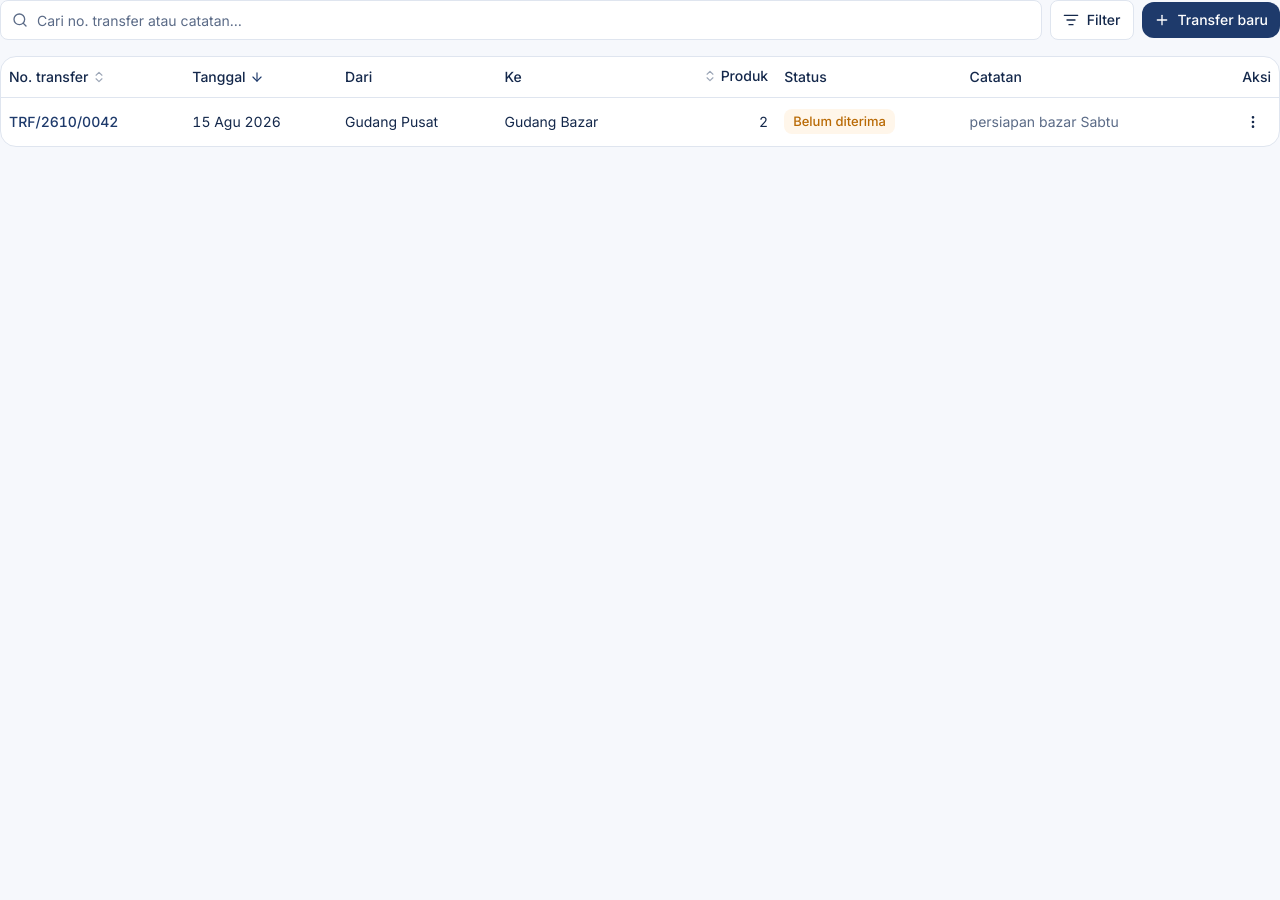
Scenario: keeps 'Semua gudang' on offer after a warehouse has been picked
The width and height of the screenshot is (1280, 900).
Click the button "Filter".
click(1092, 20)  # box [1050,0,1134,40]
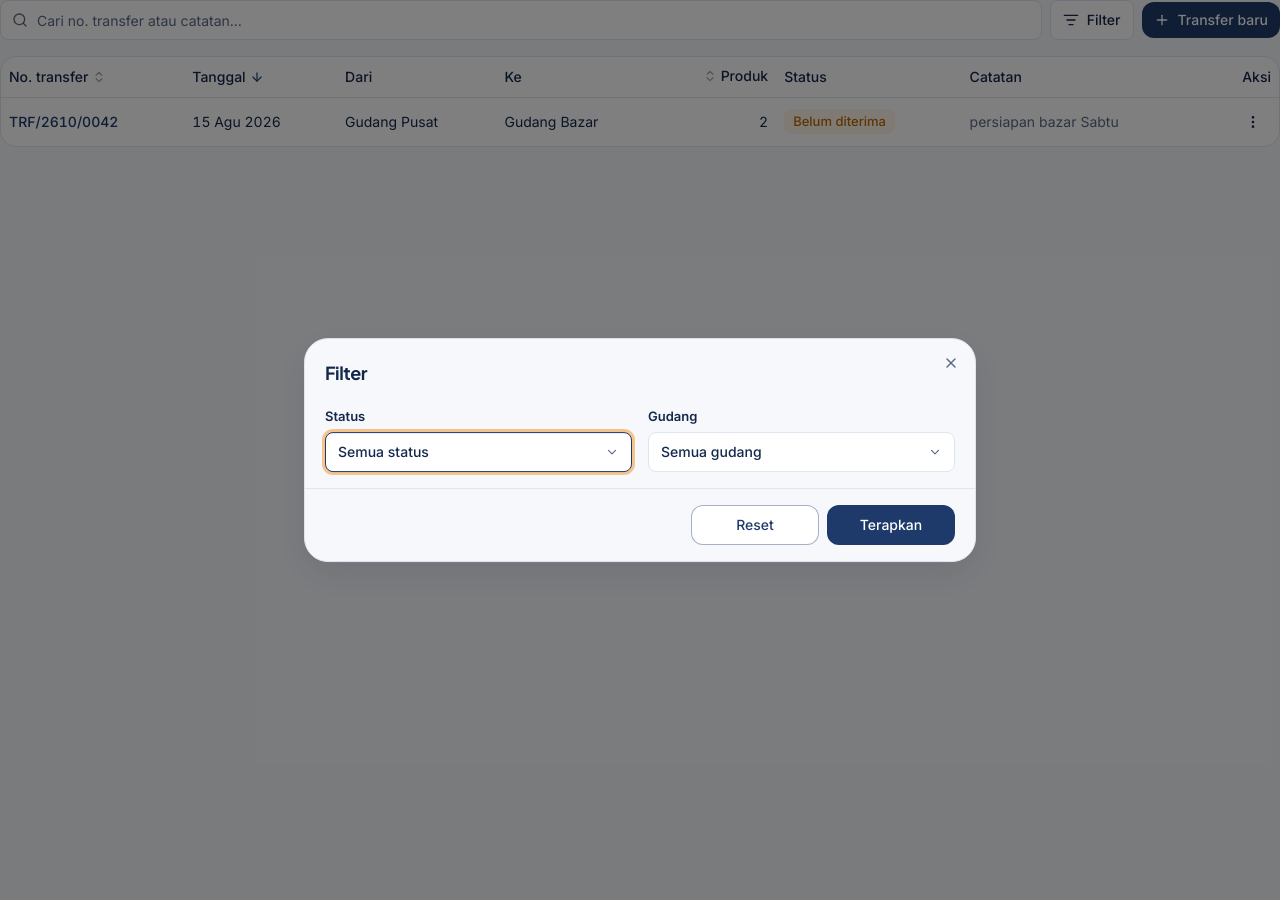
Click the button with aria-label "Filter gudang — asal maupun tujuan".
click(711, 451)  # box [648,432,955,472]
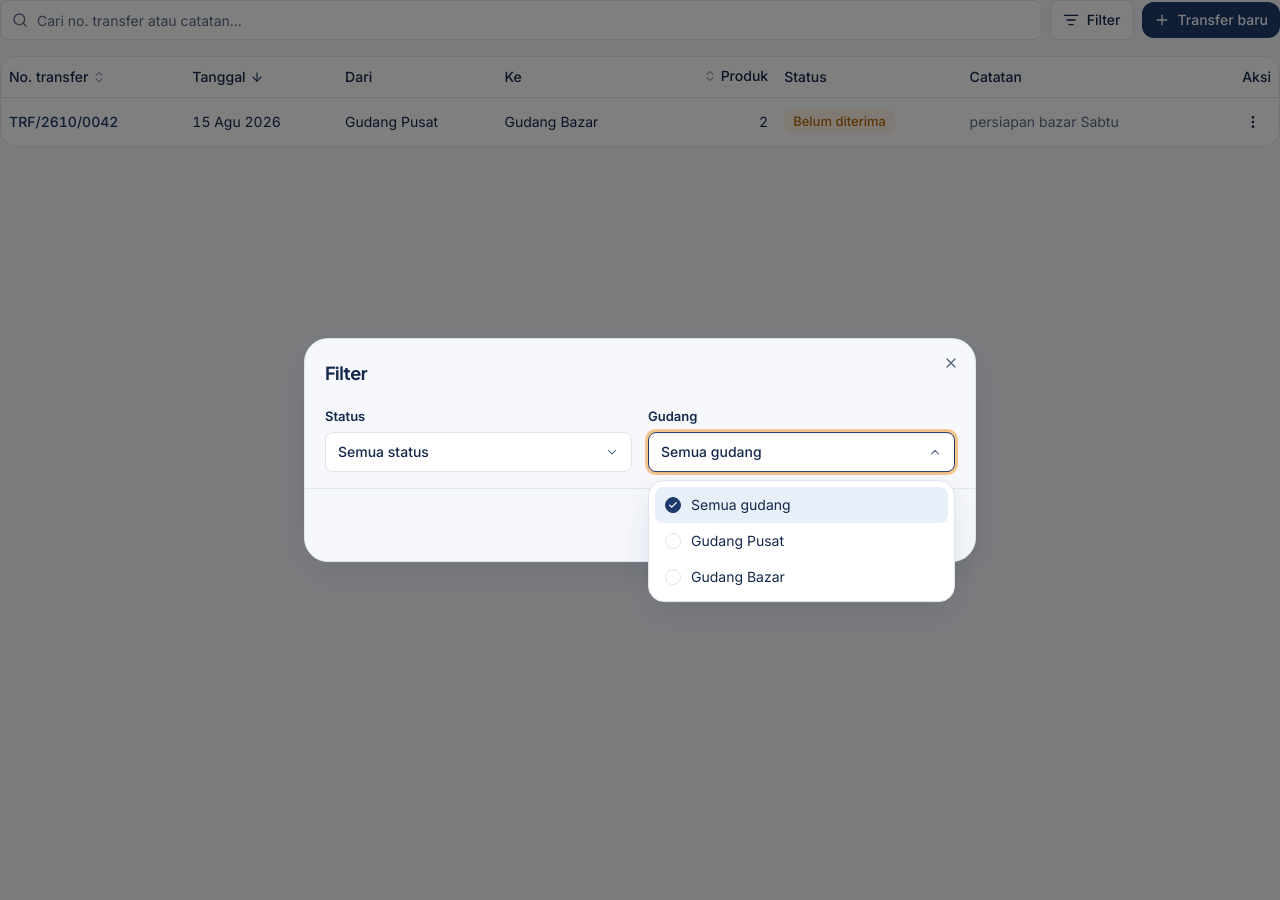
Click the option "Gudang Bazar".
click(725, 577)  # box [665,568,785,585]
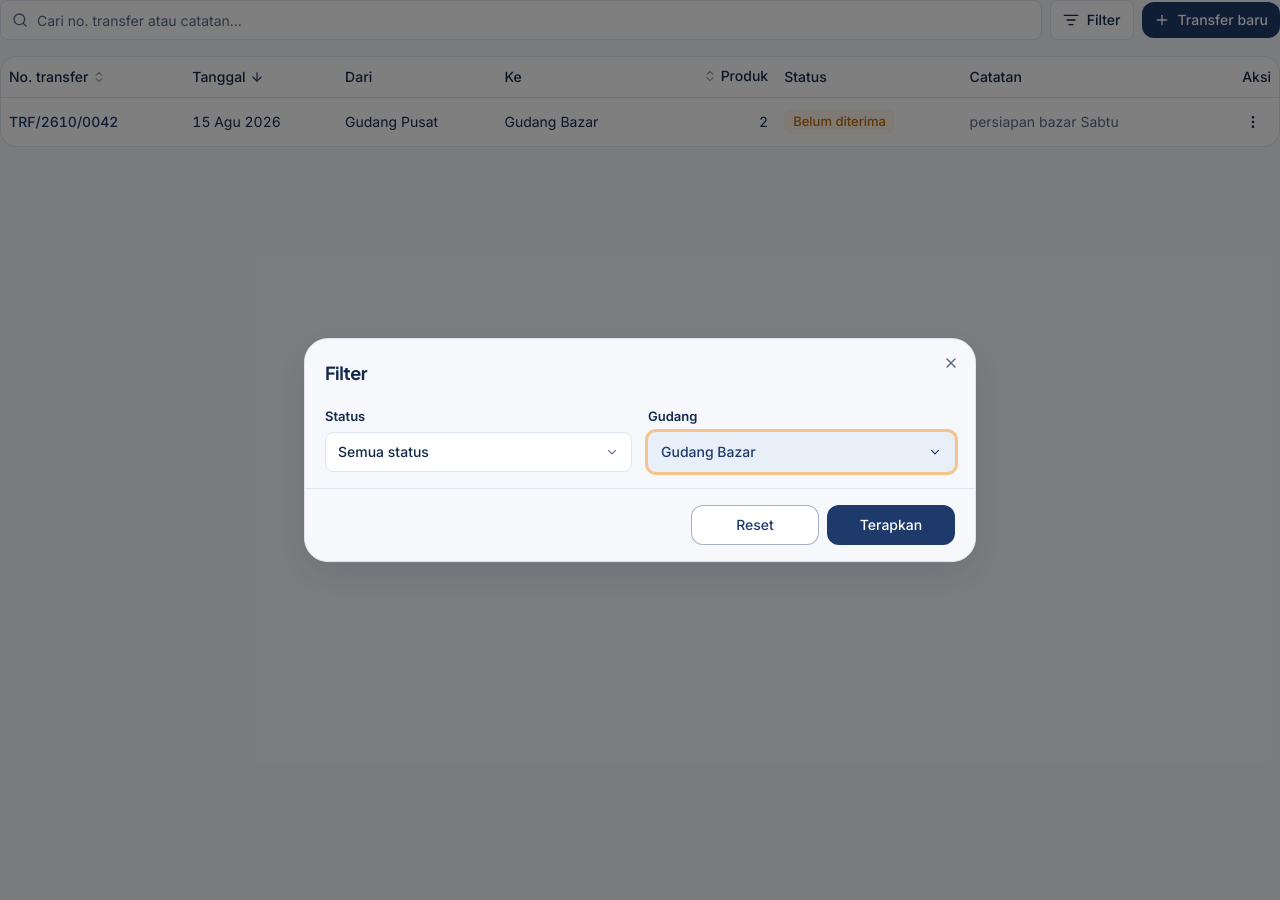
Click the button with aria-label "Filter gudang — asal maupun tujuan".
click(708, 451)  # box [648,432,955,472]
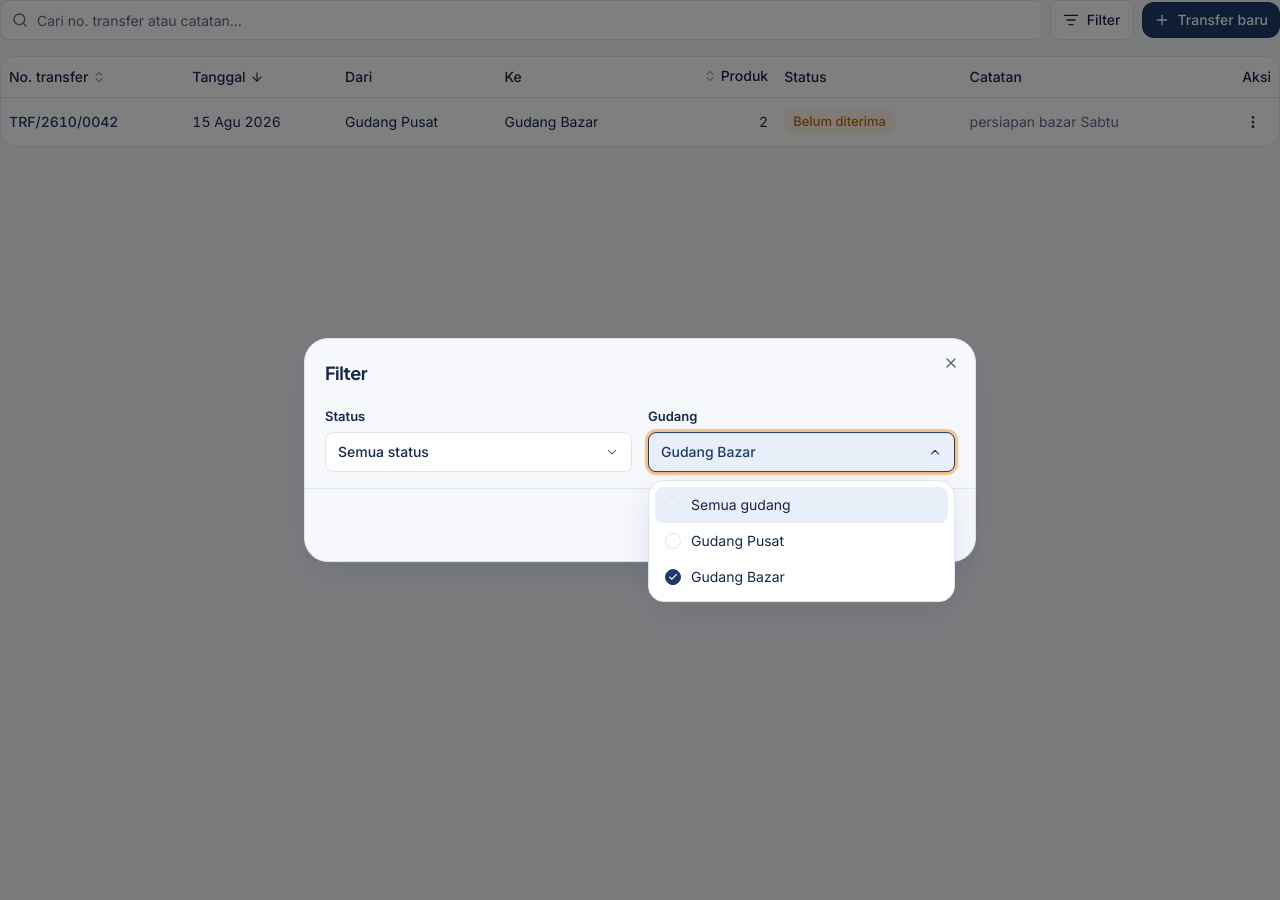
Expected: the option "Semua gudang" is shown, [655,487,948,523]
